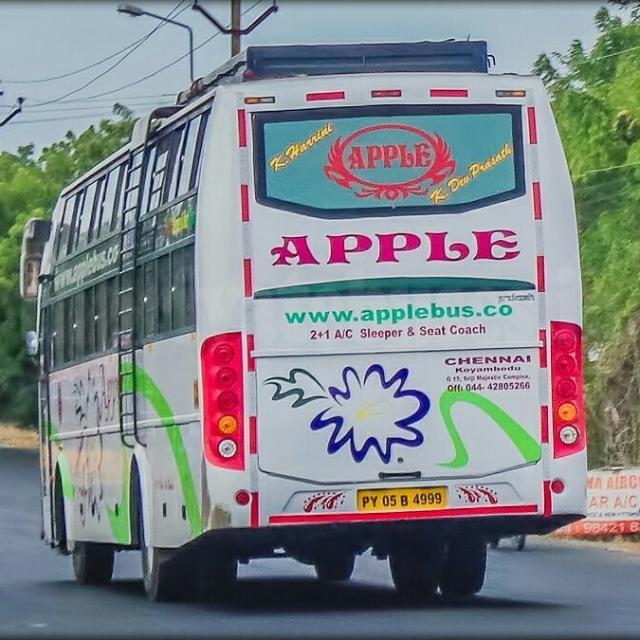Bus: (18, 36, 593, 605)
